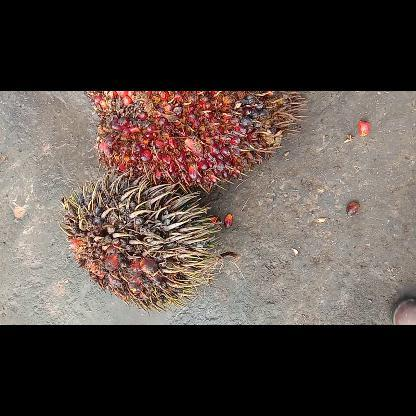TBS abnormal: (61, 167, 224, 311)
TBS masak: (83, 91, 303, 189)
